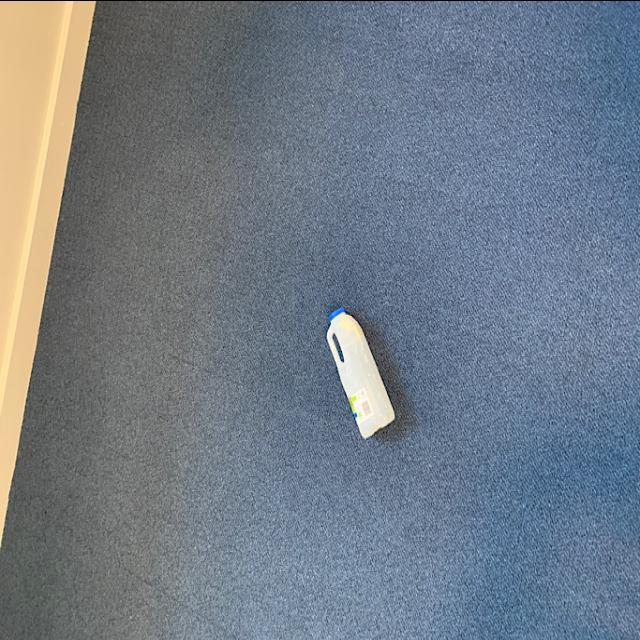HDPEM: (325, 306, 399, 444)
